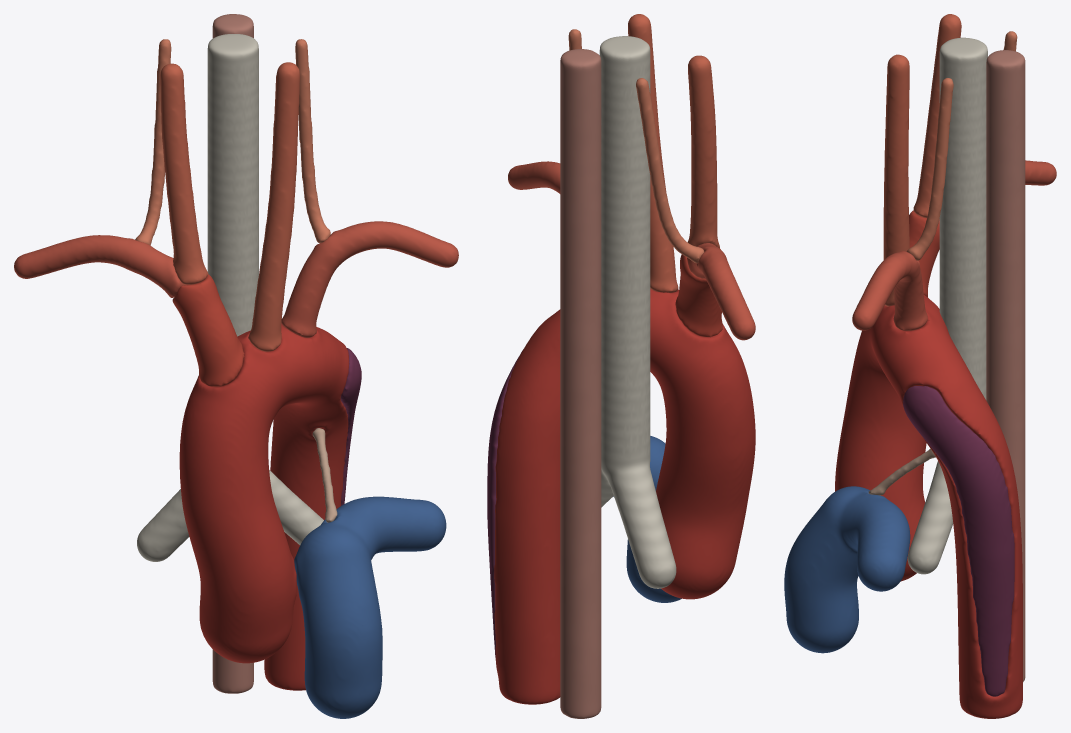
Rendered from aorta_dissection_b.glb.
3 renders of one model, left to right at view 1: azimuth 30°, elevation 25°; view 2: azimuth 150°, elevation 25°; view 3: azimuth 270°, elevation 25°, orthographic. The views are drawn at different scales.
Visible parts, largest first — view 1: aorta, pulmonary_trunk, trachea, left_common_carotid, left_subclavian, right_common_carotid, right_subclavian, brachiocephalic_trunk, left_vertebral, oesophagus, right_vertebral, false_lumen (+1 smaller); view 2: aorta, oesophagus, trachea, right_common_carotid, left_common_carotid, right_subclavian, right_vertebral, brachiocephalic_trunk, false_lumen, pulmonary_trunk, left_subclavian; view 3: aorta, trachea, oesophagus, pulmonary_trunk, false_lumen, left_common_carotid, left_subclavian, right_common_carotid, left_vertebral, brachiocephalic_trunk, right_subclavian, ligamentum_arteriosum.
Part boxes in pixels (bbox=[...]): aorta: bbox=[179, 323, 349, 690]; pulmonary_trunk: bbox=[294, 496, 446, 718]; trachea: bbox=[137, 34, 323, 561]; left_common_carotid: bbox=[248, 62, 299, 351]; left_subclavian: bbox=[281, 221, 458, 337]; right_common_carotid: bbox=[160, 63, 208, 284]; right_subclavian: bbox=[14, 235, 187, 297]; brachiocephalic_trunk: bbox=[172, 274, 244, 386]; left_vertebral: bbox=[295, 39, 330, 243]; oesophagus: bbox=[212, 14, 253, 693]; right_vertebral: bbox=[135, 39, 171, 245]; false_lumen: bbox=[340, 348, 361, 505]; aorta: bbox=[494, 289, 755, 704]; oesophagus: bbox=[560, 49, 601, 718]; trachea: bbox=[599, 36, 676, 588]; right_common_carotid: bbox=[687, 55, 719, 248]; left_common_carotid: bbox=[628, 14, 678, 292]; right_subclavian: bbox=[687, 243, 755, 340]; right_vertebral: bbox=[636, 78, 704, 263]; brachiocephalic_trunk: bbox=[675, 249, 722, 337]; false_lumen: bbox=[487, 327, 538, 657]; pulmonary_trunk: bbox=[613, 436, 681, 602]; left_subclavian: bbox=[508, 161, 560, 193]; aorta: bbox=[835, 295, 1022, 718]; trachea: bbox=[907, 37, 987, 574]; oesophagus: bbox=[986, 50, 1025, 681]; pulmonary_trunk: bbox=[784, 486, 910, 653]; false_lumen: bbox=[903, 386, 1014, 696]; left_common_carotid: bbox=[883, 54, 909, 306]; left_subclavian: bbox=[852, 251, 927, 330]; right_common_carotid: bbox=[913, 14, 961, 218]; left_vertebral: bbox=[906, 78, 953, 260]; brachiocephalic_trunk: bbox=[909, 210, 939, 297]; right_subclavian: bbox=[1025, 160, 1056, 185]; ligamentum_arteriosum: bbox=[868, 449, 935, 495].
Bounding box in the file's own units: 12.31 × 22.78 × 8.97.
